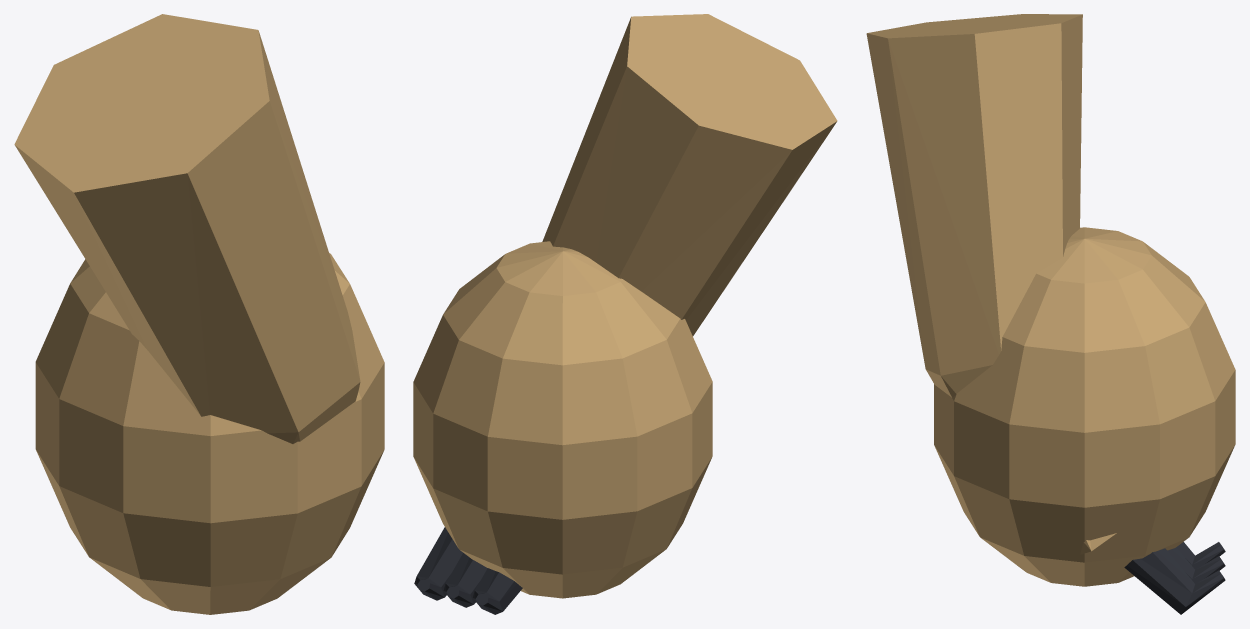
The model's file is gorehulk_d_arm_1.obj.
The picture shows the model from 3 angles, left to right: view 1: azimuth 30°, elevation 25°; view 2: azimuth 150°, elevation 25°; view 3: azimuth 270°, elevation 25°; orthographic projection. The views are drawn at different scales.
Visible parts, largest first — view 1: gorehulk_d_arm_1; view 2: gorehulk_d_arm_1; view 3: gorehulk_d_arm_1.
Part boxes in pixels (<box>): gorehulk_d_arm_1: <box>14,14,384,614</box>; gorehulk_d_arm_1: <box>413,14,837,614</box>; gorehulk_d_arm_1: <box>866,14,1235,614</box>.
Bounding box in the file's own units: 0.5524 × 0.8583 × 0.5367.
